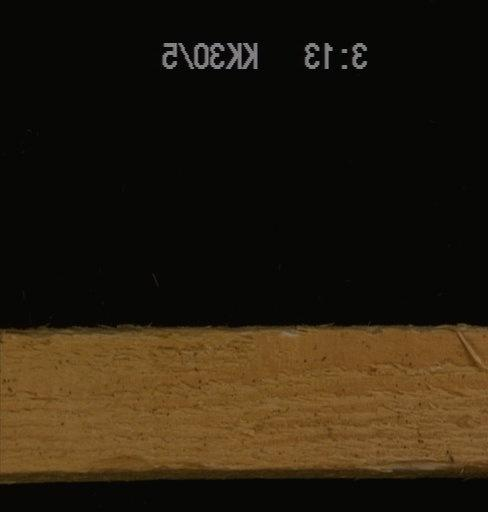wave: (65, 448, 243, 480), (366, 453, 482, 476)
